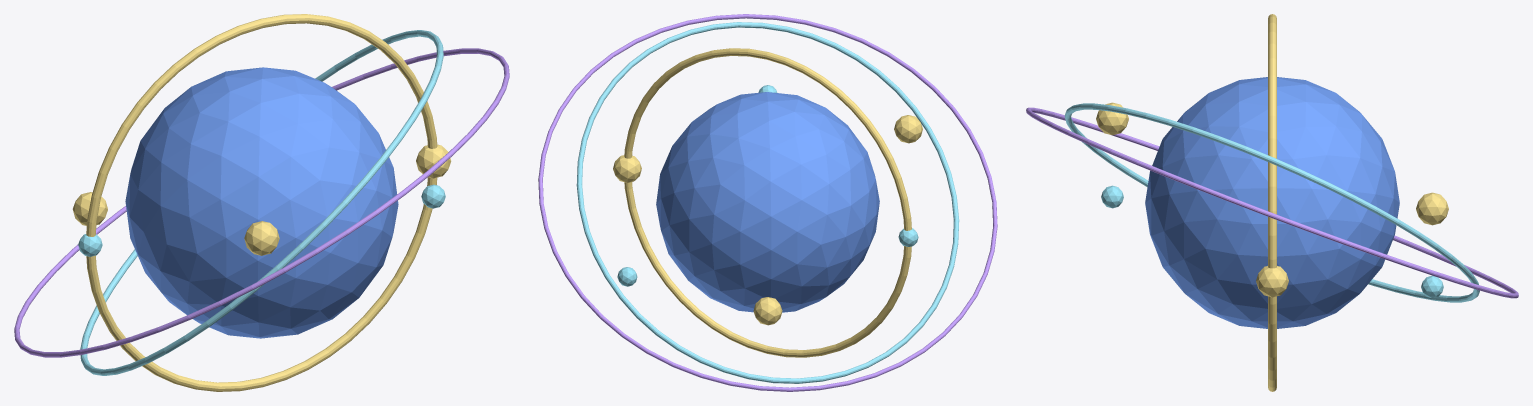
Rendered from developer-core.glb.
The picture shows the model from 3 angles, left to right: view 1: azimuth 30°, elevation 25°; view 2: azimuth 150°, elevation 25°; view 3: azimuth 270°, elevation 25°; orthographic projection. The views are drawn at different scales.
Visible parts, largest first — view 1: core, ring_0, ring_2, ring_1, world; view 2: core, ring_0, ring_1, ring_2, world; view 3: core, ring_1, ring_2, world, ring_0.
Boxes of the visible parts, bbox=[...] form: core: bbox=[125, 67, 398, 338]; ring_0: bbox=[86, 14, 437, 391]; ring_2: bbox=[14, 48, 509, 357]; ring_1: bbox=[80, 30, 443, 375]; world: bbox=[72, 144, 451, 256]; core: bbox=[656, 92, 879, 312]; ring_0: bbox=[624, 48, 911, 357]; ring_1: bbox=[576, 22, 959, 383]; ring_2: bbox=[538, 14, 997, 391]; world: bbox=[613, 85, 922, 325]; core: bbox=[1145, 77, 1399, 328]; ring_1: bbox=[1064, 103, 1479, 302]; ring_2: bbox=[1026, 107, 1518, 298]; world: bbox=[1096, 102, 1448, 298]; ring_0: bbox=[1268, 14, 1276, 391].
Bounding box in the file's own units: 3.87 × 2.97 × 3.87.
